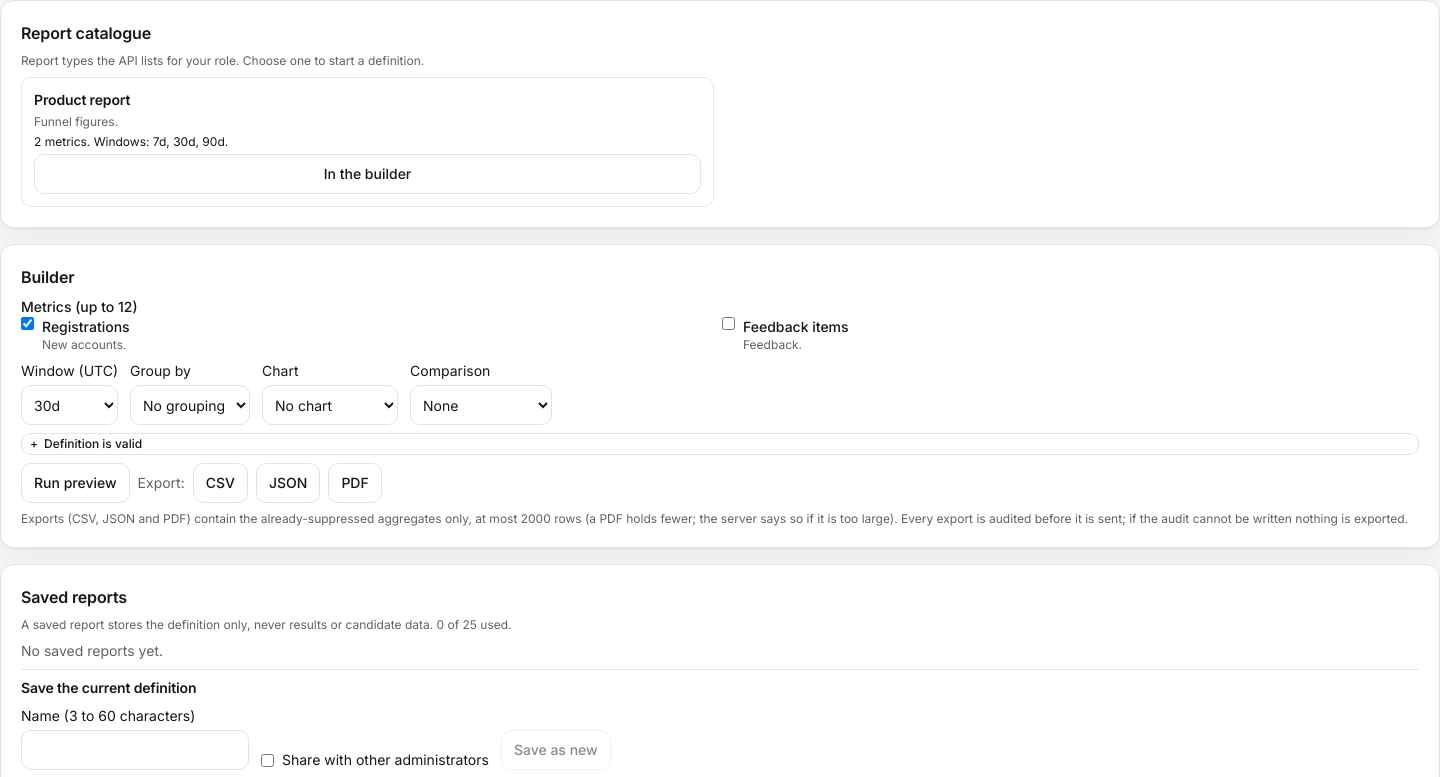
Scenario: builder UI › a successful export downloads the file after the audited response and posts only the registered definition
The width and height of the screenshot is (1440, 777).
Expected: the heading "Builder" is shown, [21,267,74,287]
Expected: the text "Definition is valid" is shown, [44,436,142,451]
What coordinates should you click on to do the following:
click the button with aria-label "Export CSV"
I would click on:
 (220, 483)
Its box is [193,463,248,503].
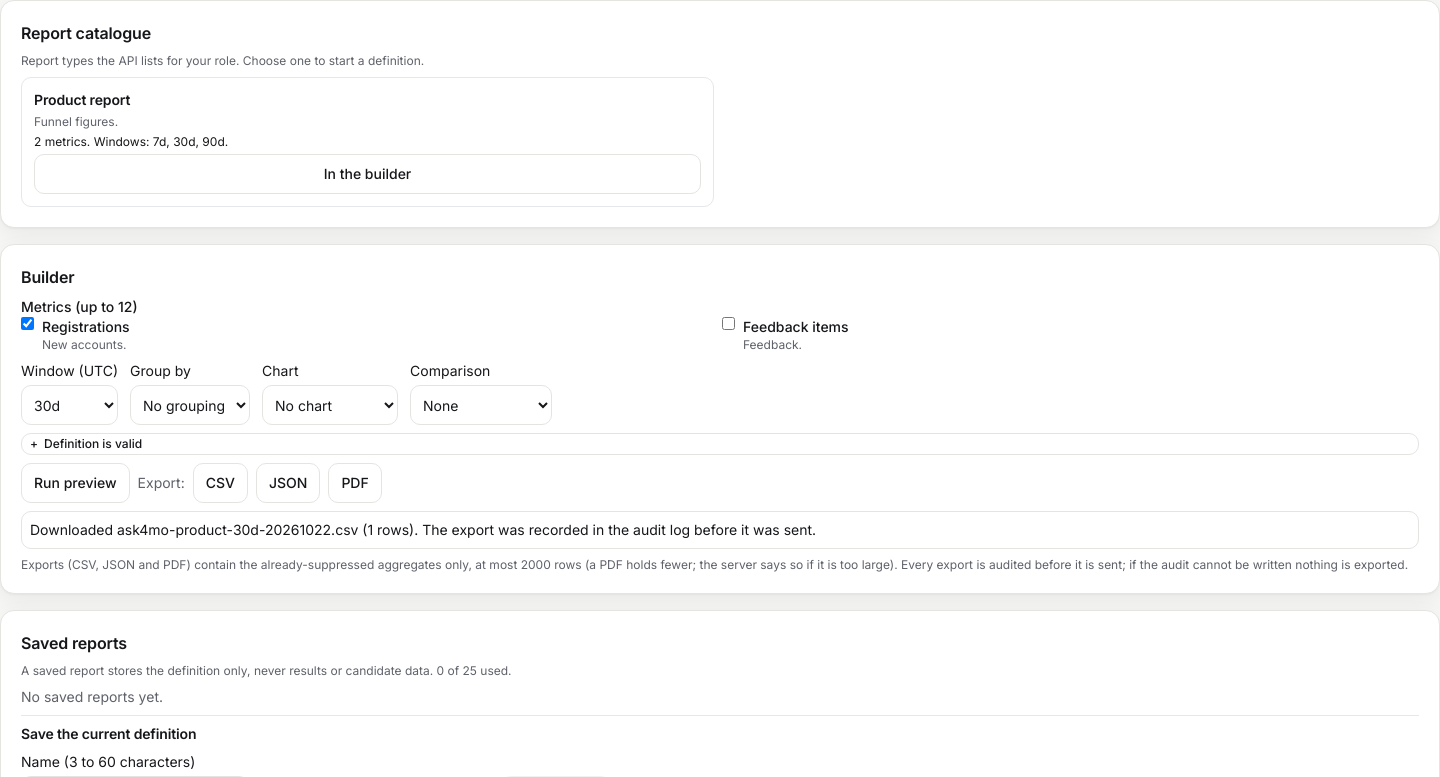
Expected: the text "Downloaded ask4mo-product-30d-20261022.csv (1 rows)" is shown, [30,521,816,538]
